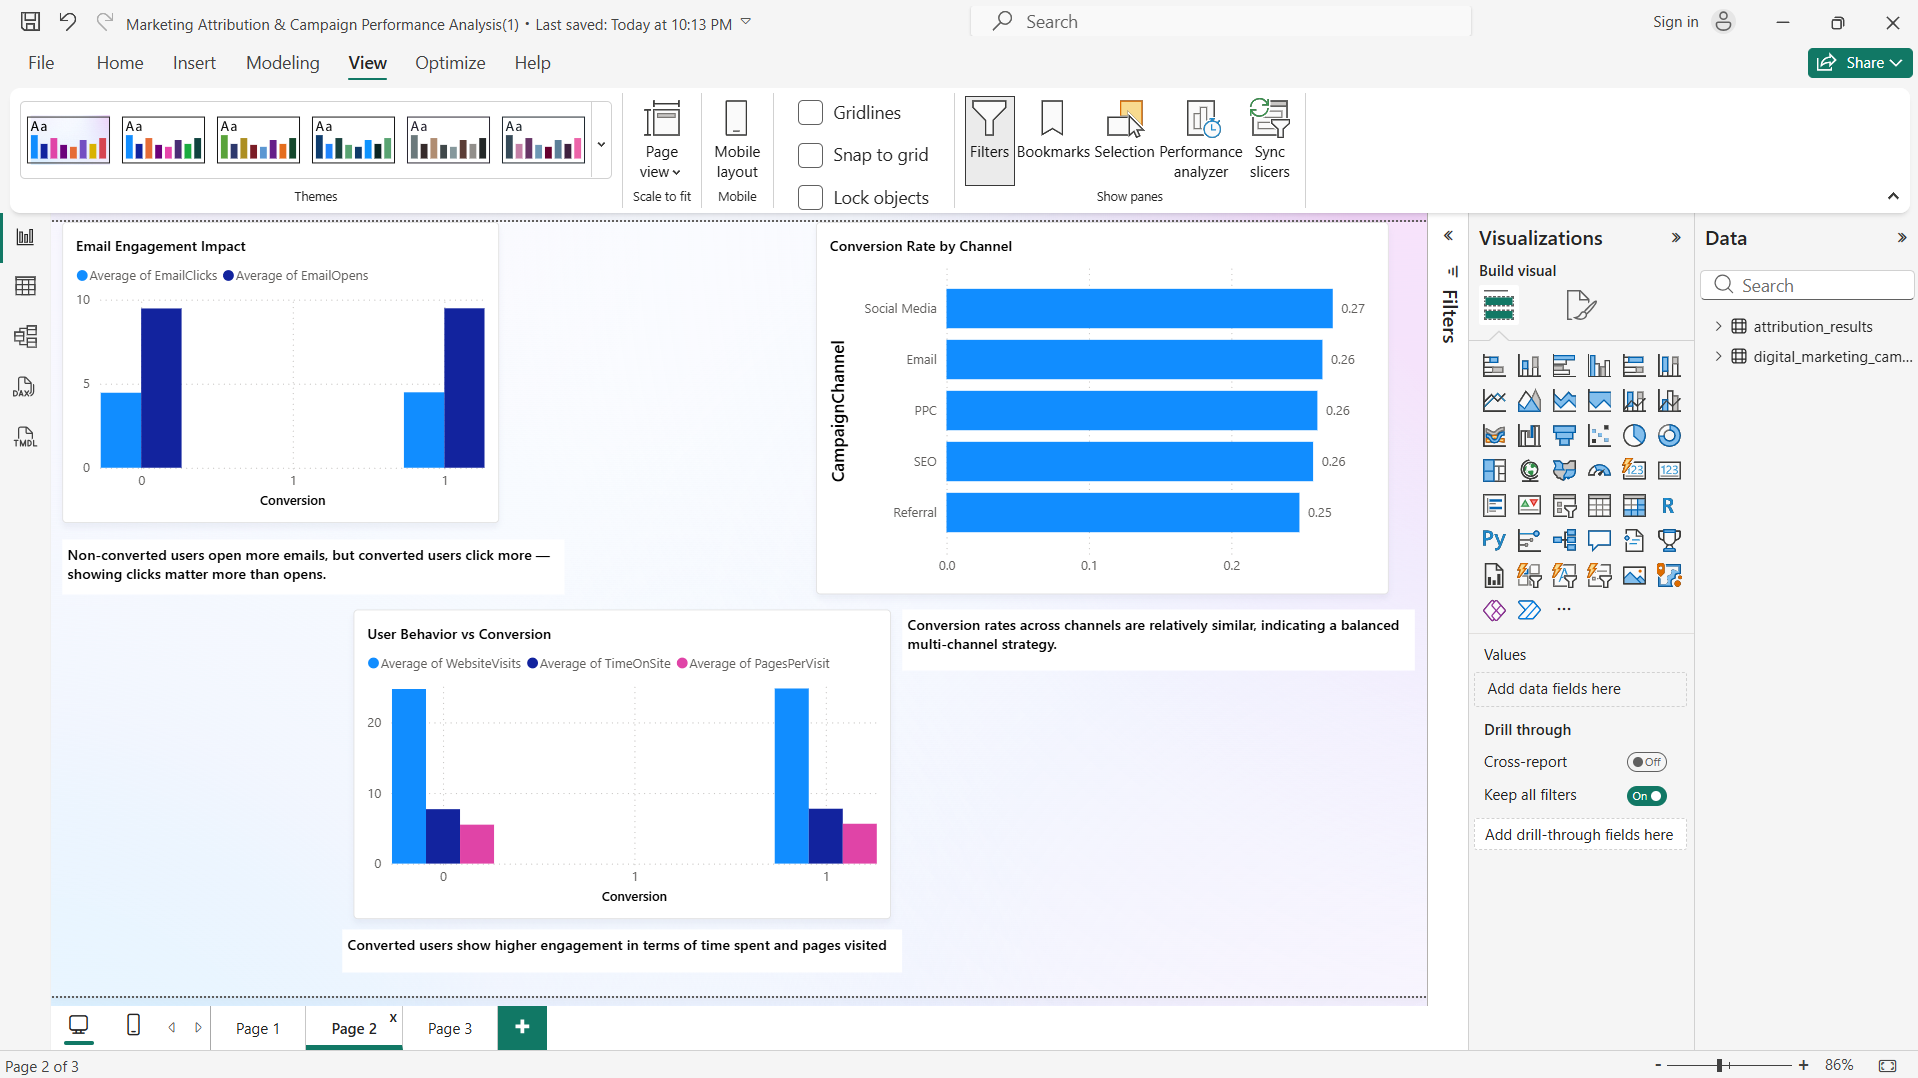

This screenshot's page, from the dashboard's own definition file:
{"tool":"powerbi","page":{"name":"Page 2","canvas":[1280,720],"ordinal":1},"visuals":[{"type":"clusteredColumnChart","title":"Email Engagement Impact","fields":{"Category":["digital_marketing_campaign_dataset.Conversion"],"Y":["Avg(digital_marketing_campaign_dataset.EmailClicks)","Avg(digital_marketing_campaign_dataset.EmailOpens)"]},"box":[10,0,406.2,280],"z":0},{"type":"clusteredBarChart","title":"Conversion Rate by Channel","fields":{"Category":["digital_marketing_campaign_dataset.CampaignChannel"],"Y":["Avg(digital_marketing_campaign_dataset.Conversion)"]},"box":[711.2,0,532.5,346.2],"z":1000},{"type":"clusteredColumnChart","title":"User Behavior vs Conversion","fields":{"Category":["digital_marketing_campaign_dataset.Conversion"],"Y":["Avg(digital_marketing_campaign_dataset.WebsiteVisits)","Avg(digital_marketing_campaign_dataset.TimeOnSite)","Avg(digital_marketing_campaign_dataset.PagesPerVisit)"]},"box":[281.1,360,500,287.8],"z":2000},{"type":"textbox","box":[10,295,467.5,51.2],"z":3000},{"type":"textbox","box":[271.1,657.8,521.1,40],"z":4000},{"type":"textbox","box":[792.2,360,476.7,56.7],"z":5000}]}

Visuals, with their boxes on the page's 1280x720 design canvas (x1, y1, x2, y2). These are canvas units, not pixel positions in the 1918x1078 screenshot, which may show the page scaled, cropped or inside an application window:
"Email Engagement Impact" clusteredColumnChart: bbox=(10, 0, 416, 280)
"Conversion Rate by Channel" clusteredBarChart: bbox=(711, 0, 1244, 346)
"User Behavior vs Conversion" clusteredColumnChart: bbox=(281, 360, 781, 648)
textbox: bbox=(10, 295, 478, 346)
textbox: bbox=(271, 658, 792, 698)
textbox: bbox=(792, 360, 1269, 417)
